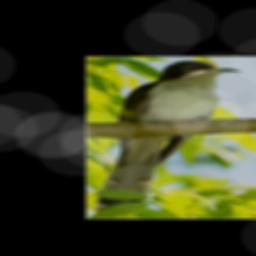Cuckoo: (94, 60, 242, 216)
